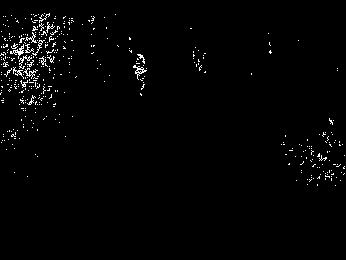person: (128, 52, 150, 98)
